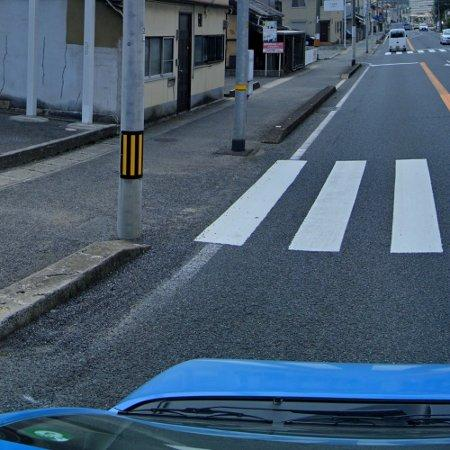crosswalks: (184, 154, 450, 254)
